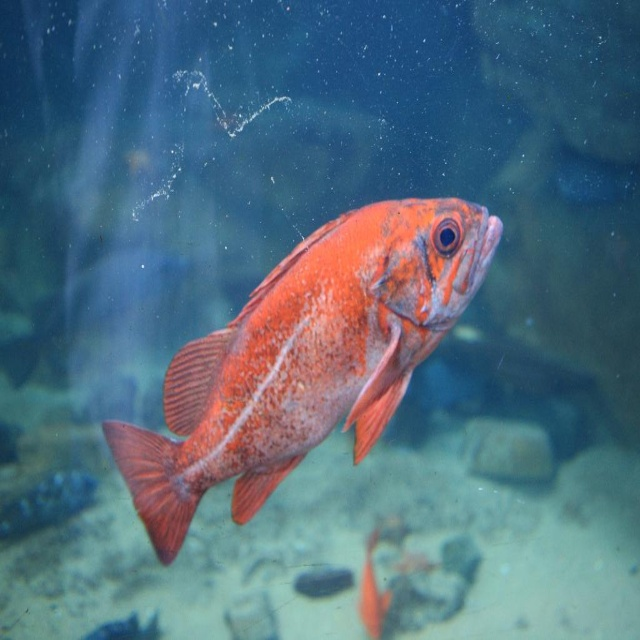Fish: (103, 195, 500, 566), (348, 527, 394, 639)
